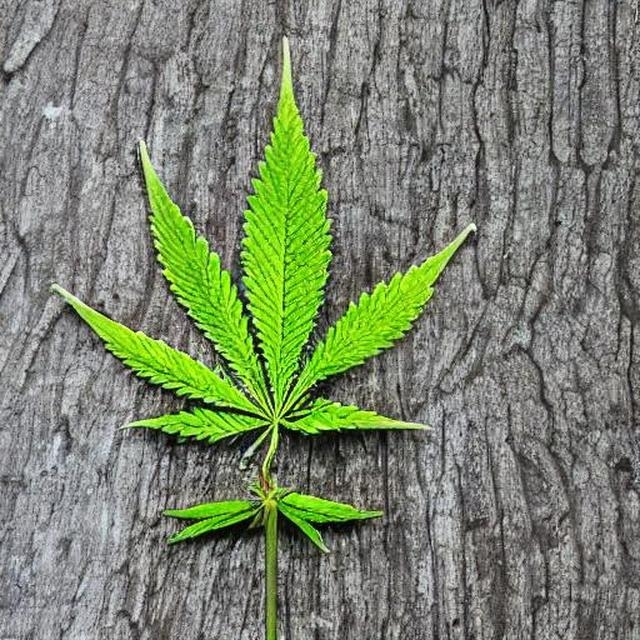Marijuana Leaf: (48, 33, 478, 639), (237, 33, 334, 404)
